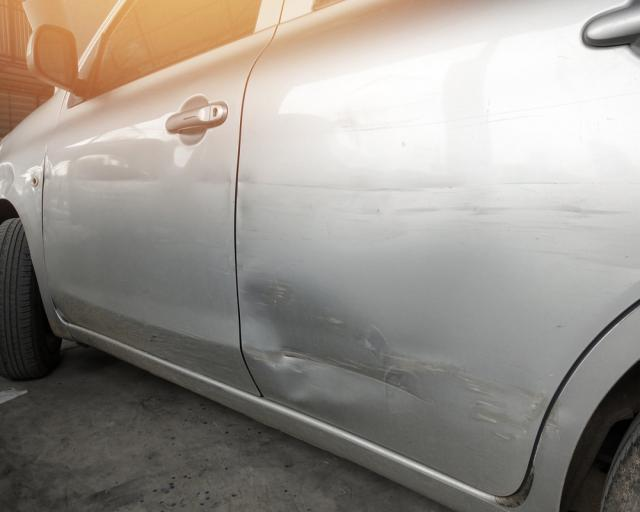dent: (241, 272, 399, 406)
scratch: (242, 173, 640, 272), (387, 352, 548, 449)
